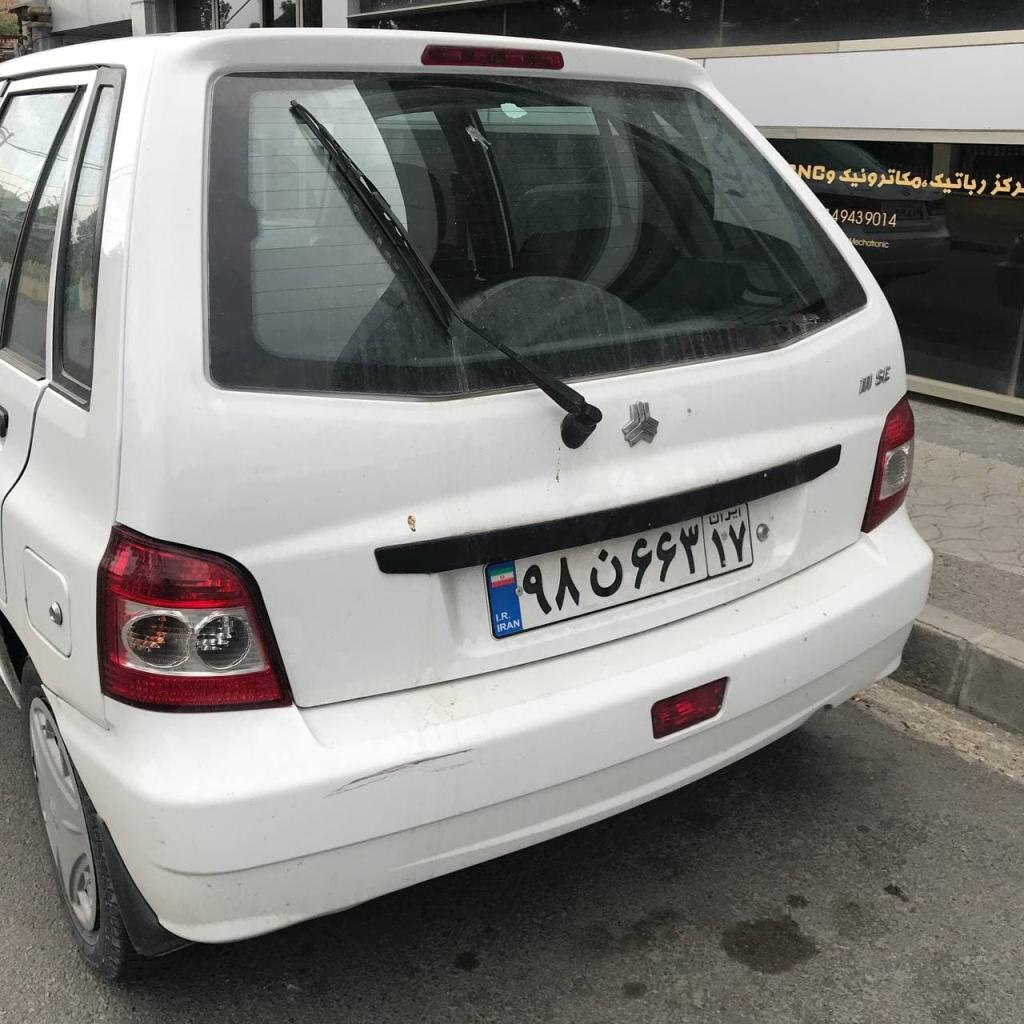Plates: (482, 503, 754, 639)
